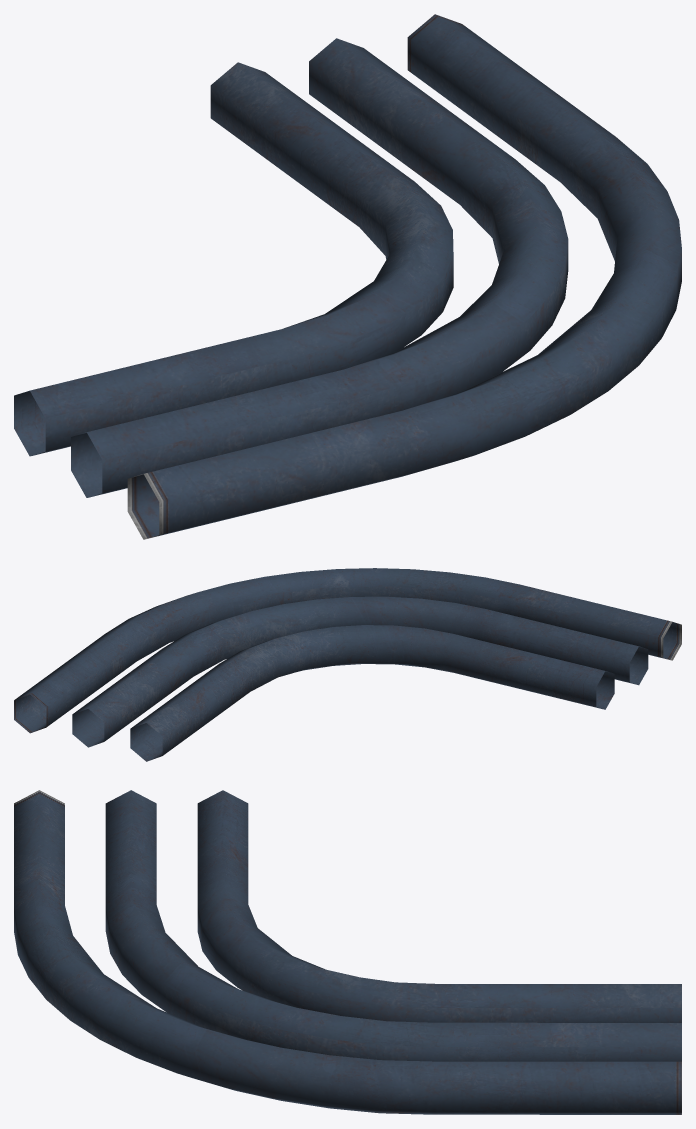
File: Pipe3_Courner2_L1.fbx
3 renders of one model, top to bottom at view 1: azimuth 30°, elevation 25°; view 2: azimuth 150°, elevation 25°; view 3: azimuth 270°, elevation 25°, orthographic. The views are drawn at different scales.
Parts seen in each view (by area): view 1: PIpe3_Courner2_L1; view 2: PIpe3_Courner2_L1; view 3: PIpe3_Courner2_L1.
Part boxes in pixels (x1,y1,x2,y2): PIpe3_Courner2_L1: (14, 14, 681, 539); PIpe3_Courner2_L1: (14, 568, 681, 761); PIpe3_Courner2_L1: (14, 790, 681, 1114).
Size of the model in its own units: 121 by 10.66 by 121.
